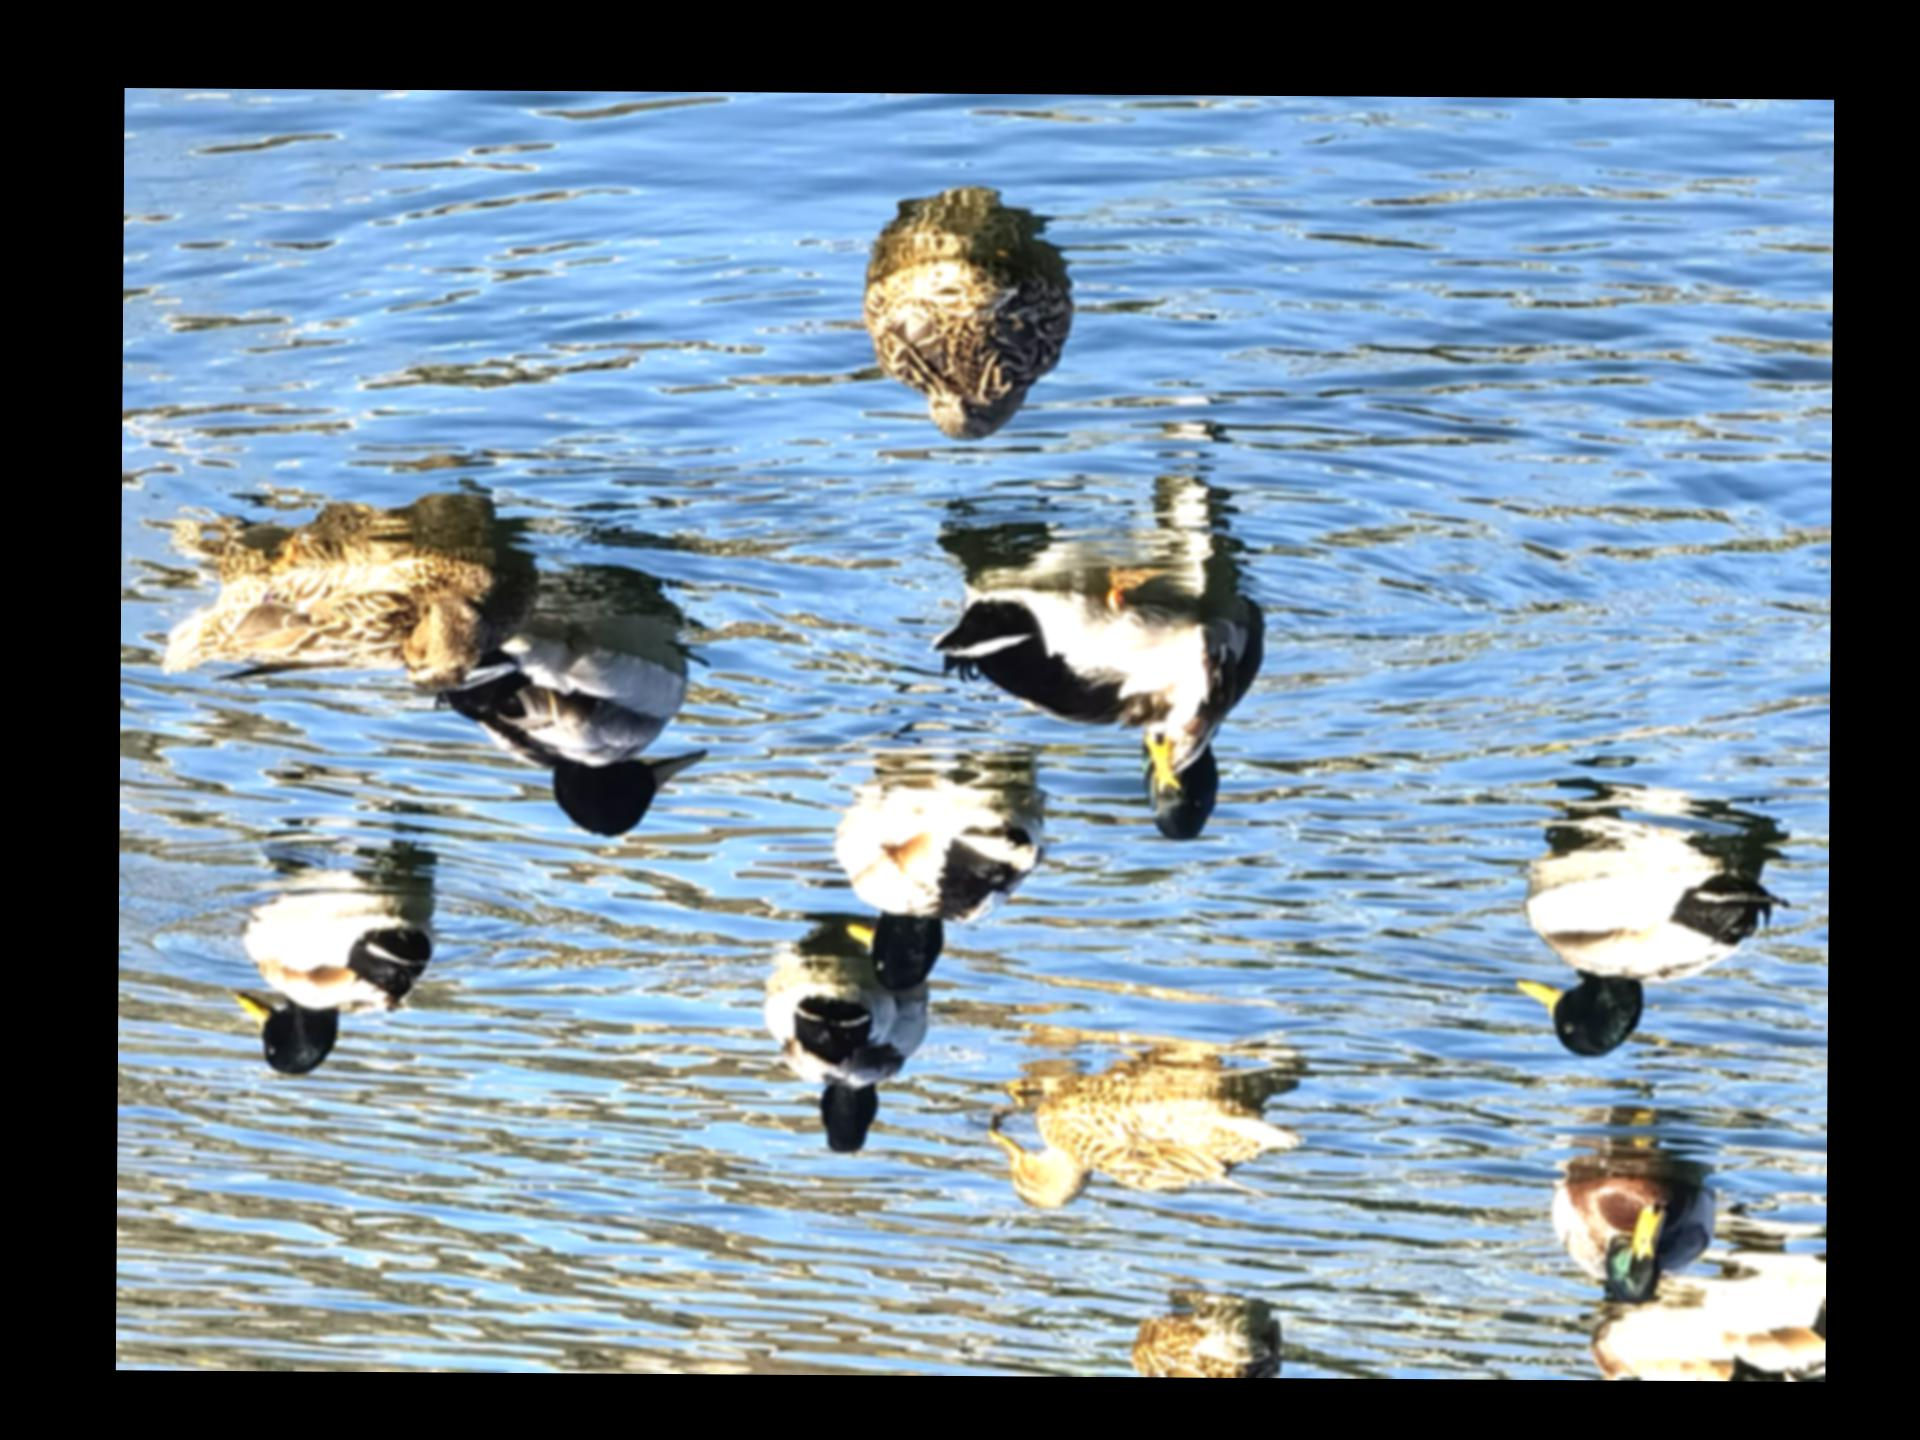duck: (898, 566, 1274, 867), (838, 206, 1107, 457), (147, 511, 509, 694), (1498, 839, 1782, 1066), (407, 641, 718, 843), (816, 759, 1045, 995), (228, 870, 451, 1091), (971, 1075, 1308, 1218), (751, 914, 934, 1168), (1531, 1154, 1722, 1327), (1113, 1301, 1293, 1376)
